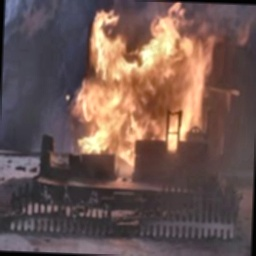fire: (59, 0, 215, 169)
